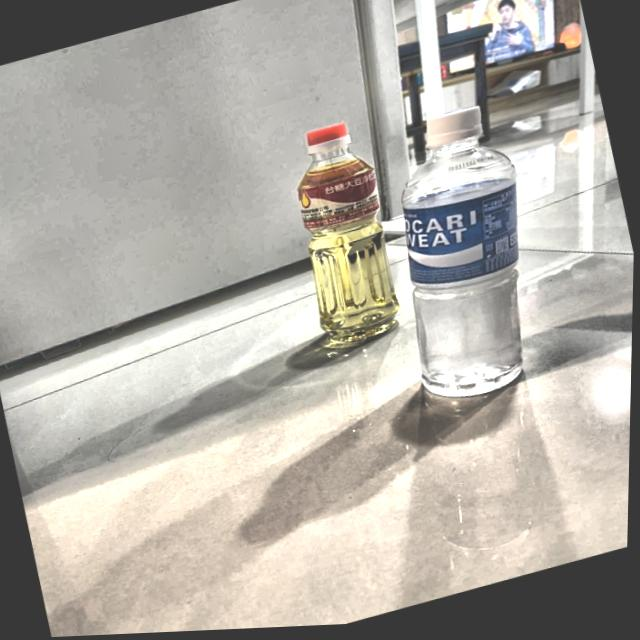Bottles: (370, 93, 576, 419), (268, 109, 421, 366)
